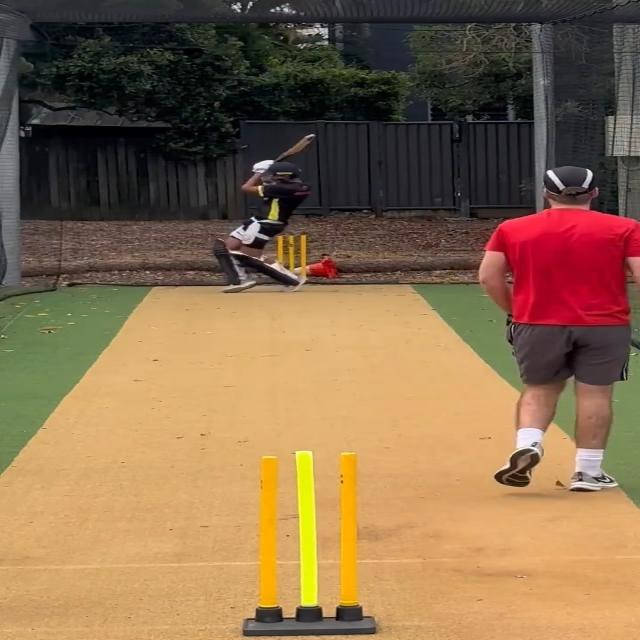stump: (250, 450, 374, 638), (275, 230, 310, 286)
